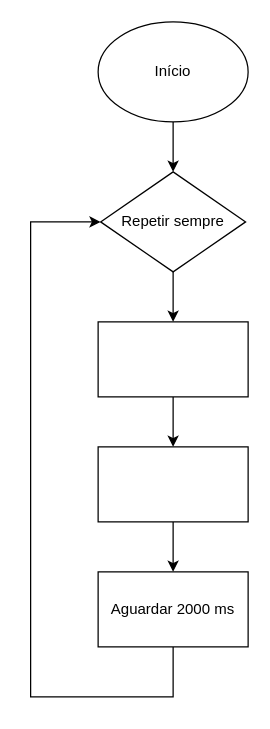
This 270x729 diagram has some shape labels left out. Here are the shapes that lost their labels. From the top down, the centre of each, then its label:
[172,359]: Inicializar monitor serial (115200 baud)
[172,484]: Escrever "Olá" no serial monitor
